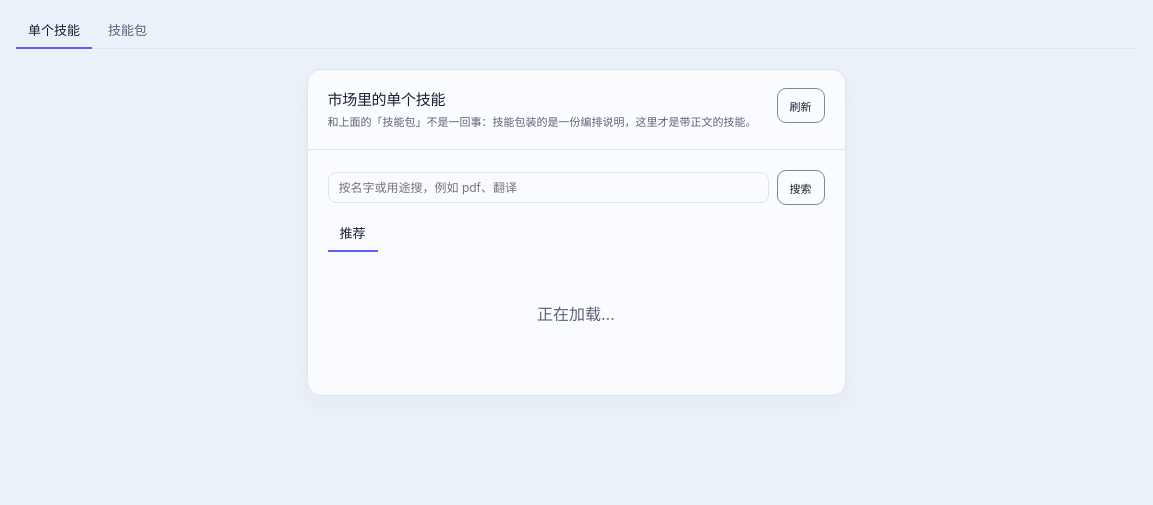
Scenario: 技能市场 · 技能包 › 装完明说：装了几个、装完是停用的、哪几个没装成
Click the tab with test id "hub-tab-pack" at (128, 30), box [96,12,159,49]
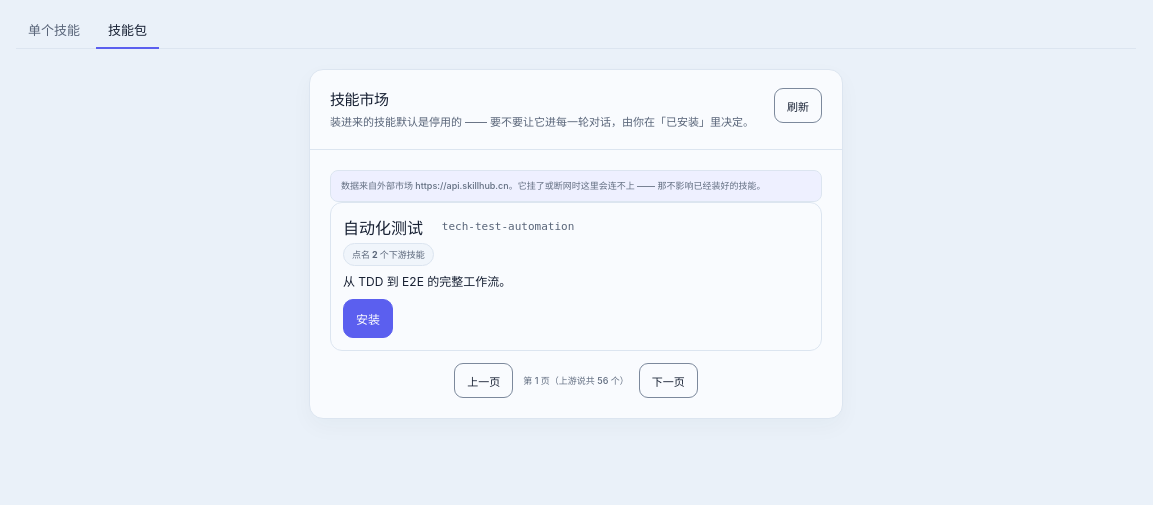
Check: the text "自动化测试" is shown, box [343,215,434,239]
Click the button with test id "hub-install-tech-test-automation" at (368, 319), box [343,299,393,338]
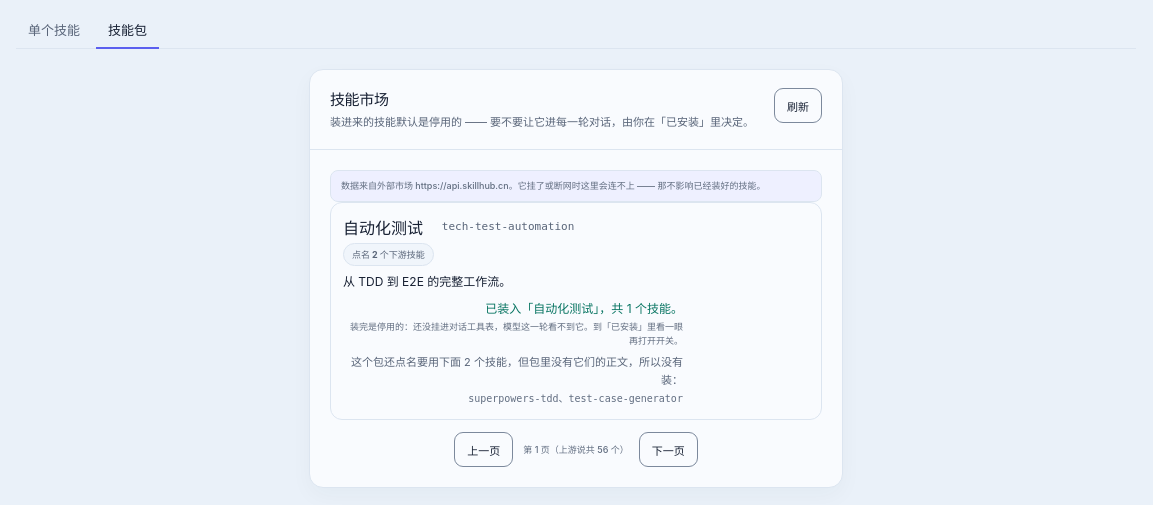
Check: the text "已装入「自动化测试」，共 1 个技能。" is shown, box [485,301,683,316]
Check: the text "装完是停用的：还没挂进对话工具表，模型这一轮看不到它。到「已安装」里看一眼再打开开关。" is shown, box [343,320,683,348]
Check: the text "所以没有装" is shown, box [351,355,683,387]
